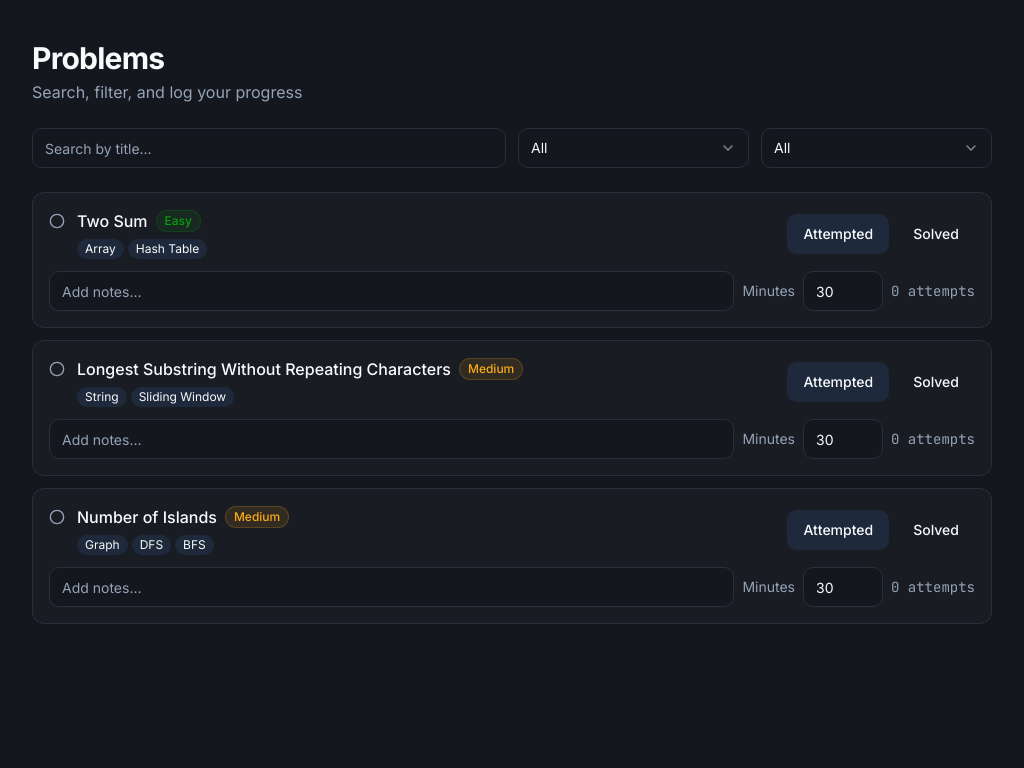
Scenario: Problems page: catalog and filtering › filters the list by search query, case-insensitively
Type "ISLAND" into the field with placeholder "Search by title…" at [269, 148], box x1=32 y1=128 x2=506 y2=168
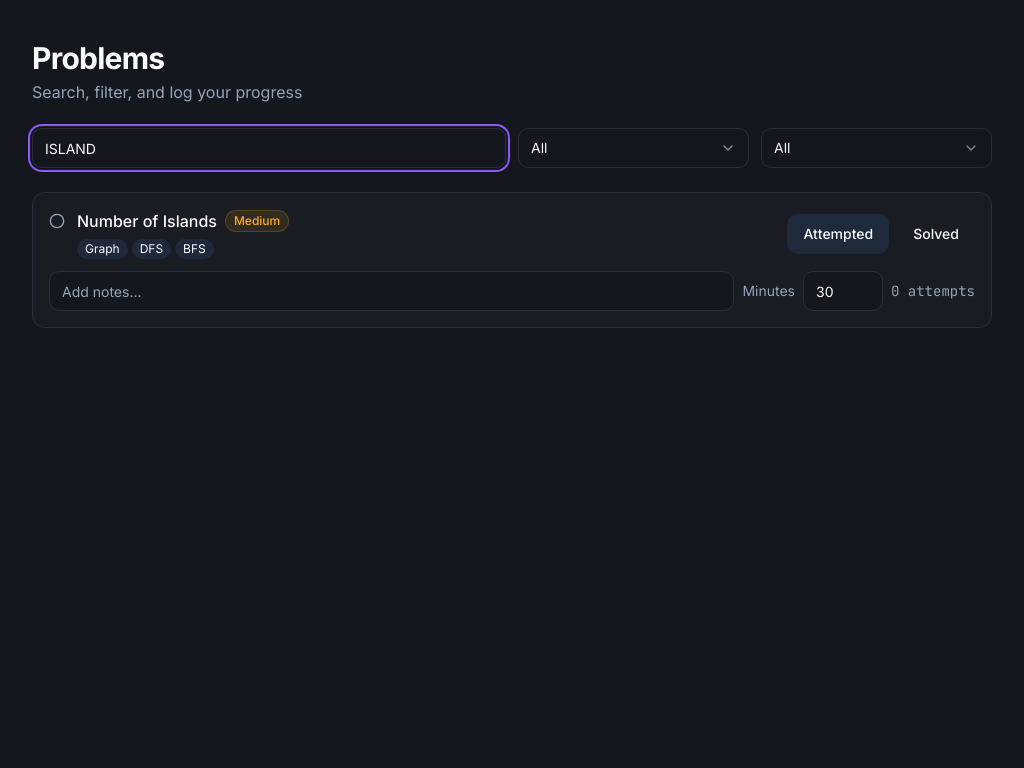
Expected: the link "Number of Islands" is shown, x1=77 y1=209 x2=217 y2=233
Result: the link "Two Sum" is gone
Result: the link "Longest Substring Without Repeating Characters" is gone
